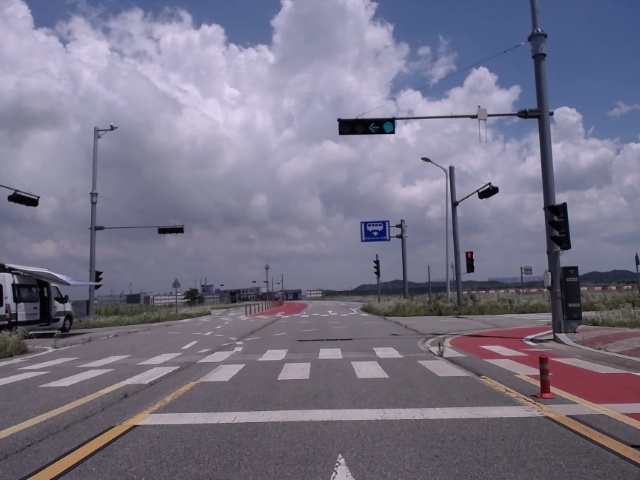all_green_4: (337, 118, 399, 134)
